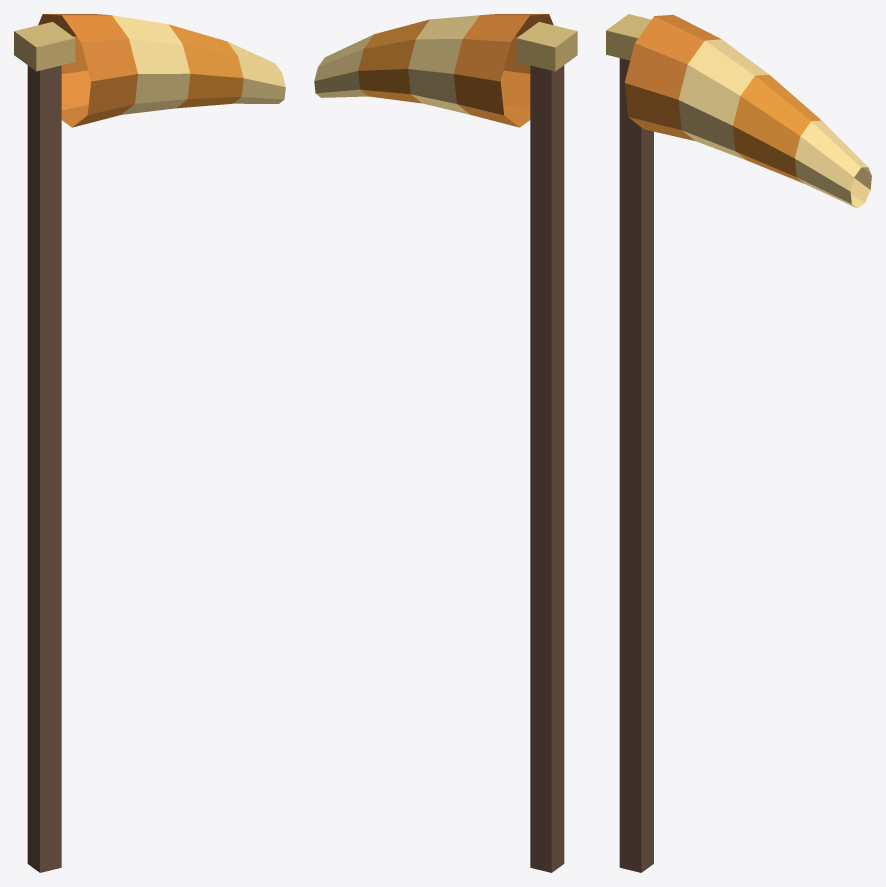
Rendered from canvas-windsock.glb.
The picture shows the model from 3 angles, left to right: view 1: azimuth 30°, elevation 25°; view 2: azimuth 150°, elevation 25°; view 3: azimuth 330°, elevation 25°; orthographic projection.
Visible parts, largest first — view 1: canvas-windsock; view 2: canvas-windsock; view 3: canvas-windsock.
Part boxes in pixels (left/top/right/bottom): canvas-windsock: left=14, top=14, right=285, bottom=872; canvas-windsock: left=314, top=14, right=577, bottom=872; canvas-windsock: left=606, top=14, right=871, bottom=872.
Size of the model in its own units: 1.72 by 5.64 by 0.7091.
Materials: 1 (1 with a texture image).
